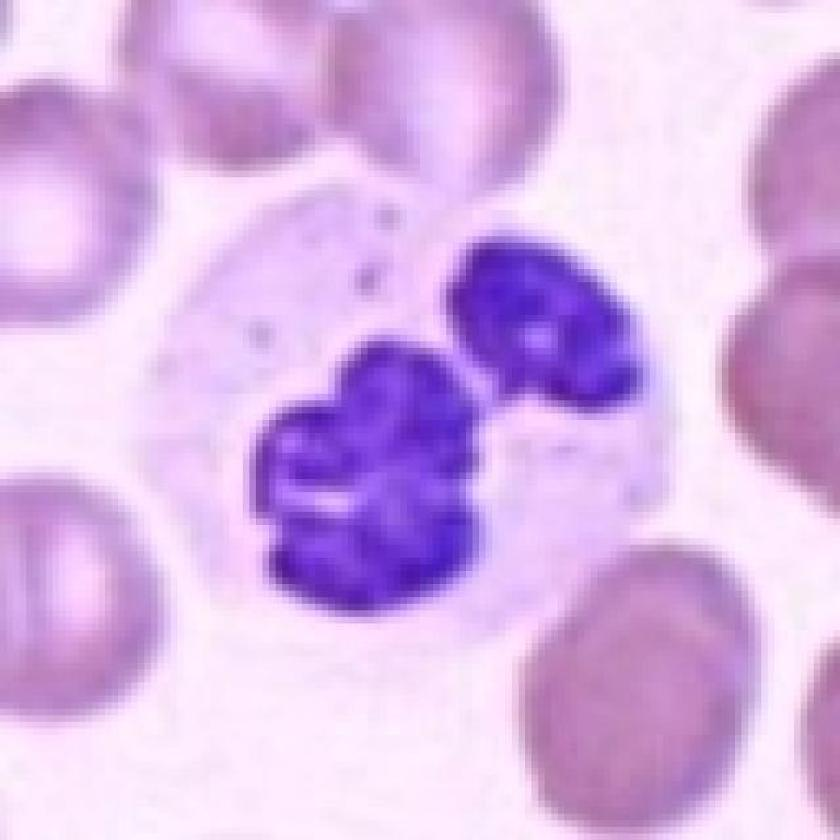neutrophil: (102, 172, 714, 671)
